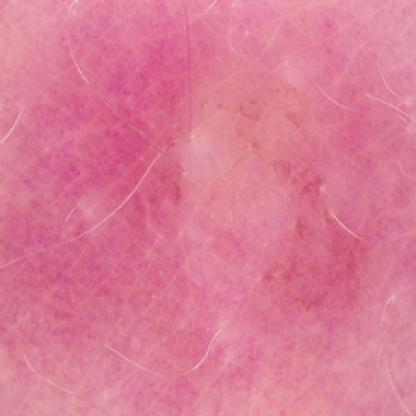benign: (145, 108, 382, 306)
